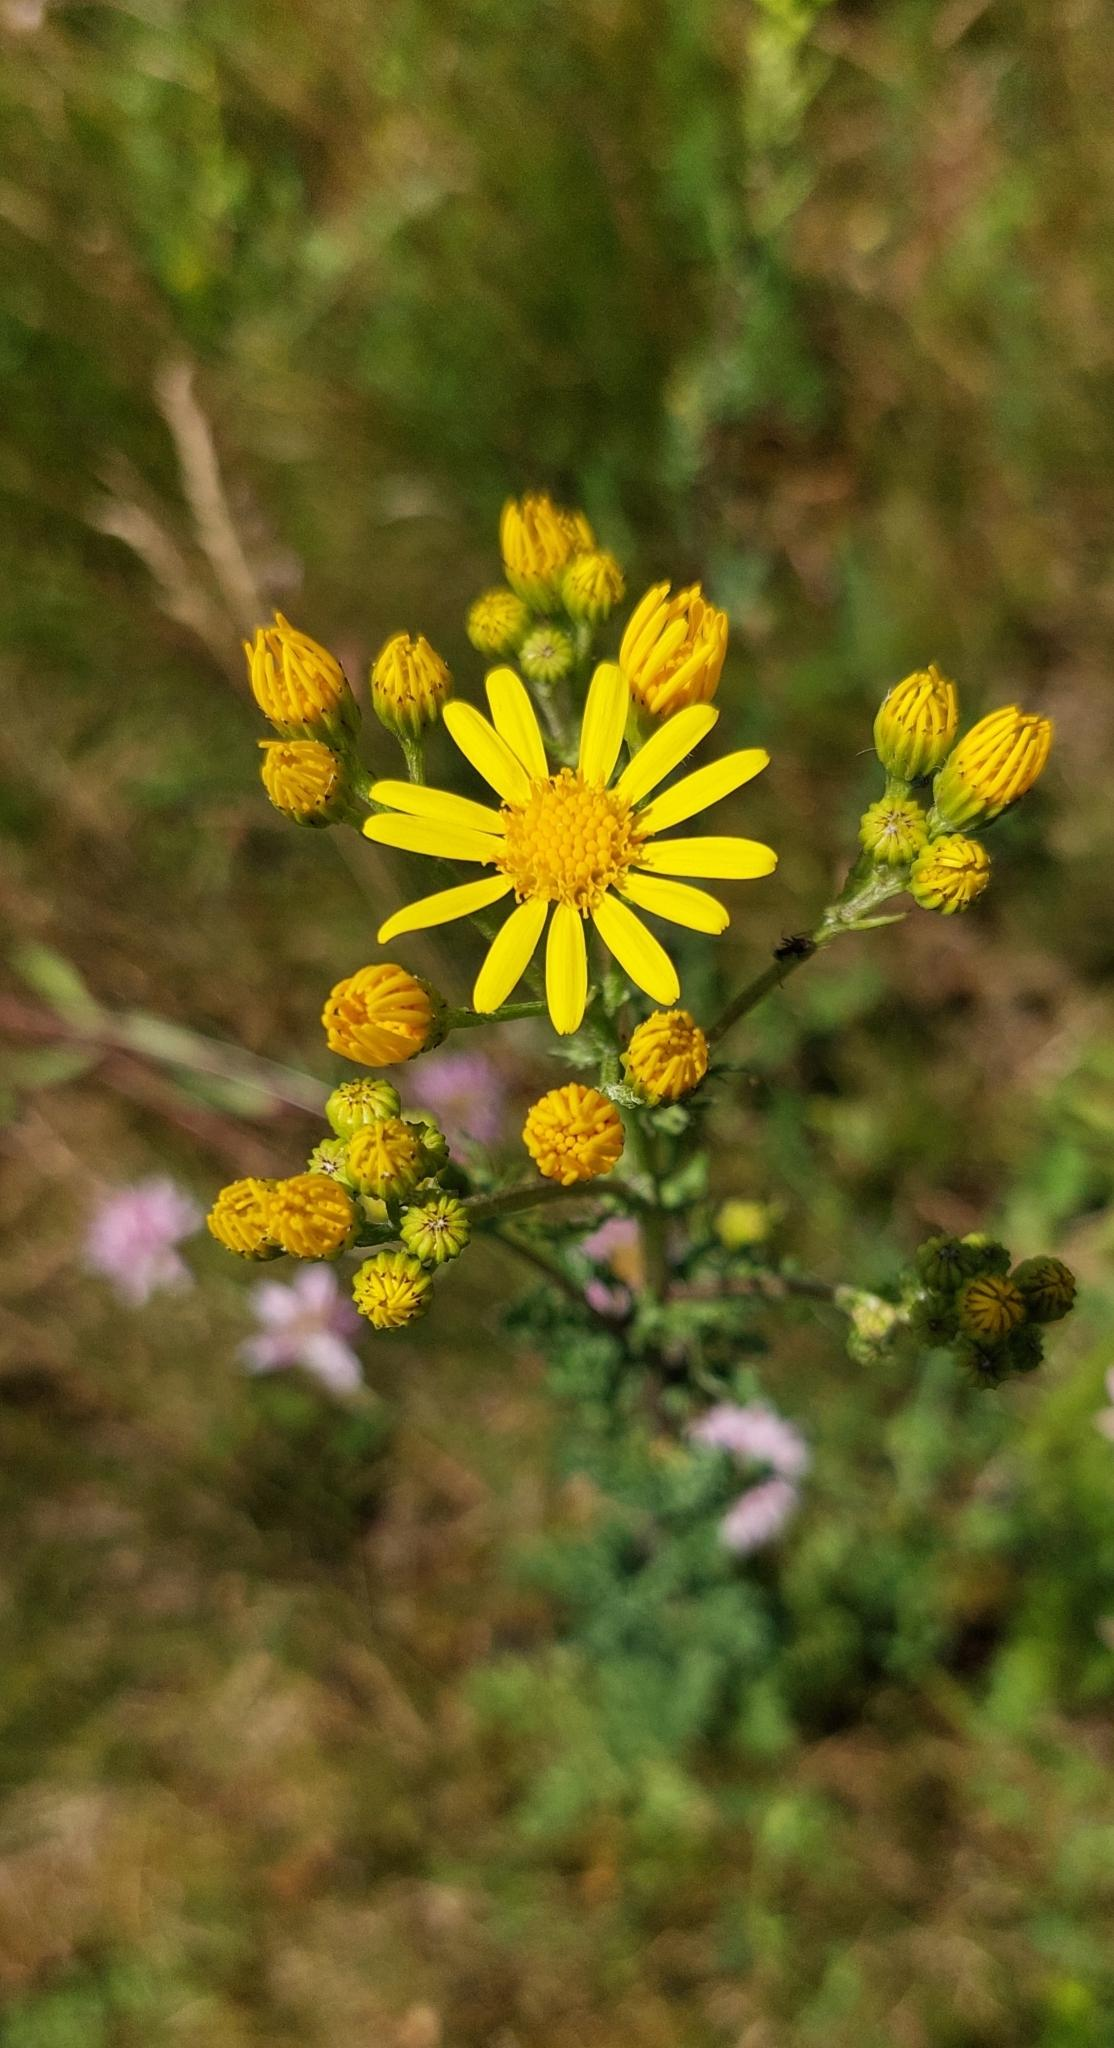Jacobaea vulgaris: (130, 396, 1110, 1830)
